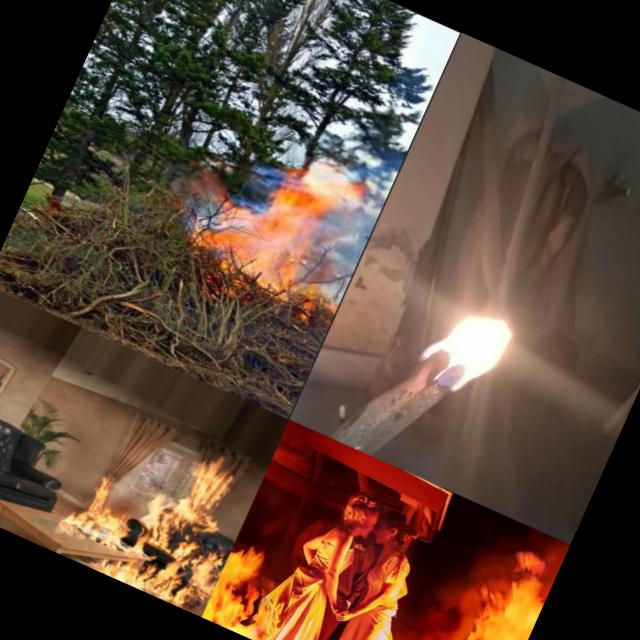fire: (56, 406, 268, 618), (198, 130, 362, 312), (386, 255, 538, 412), (425, 537, 562, 640), (201, 519, 313, 640)
smoke: (310, 148, 404, 302), (161, 162, 232, 233)
